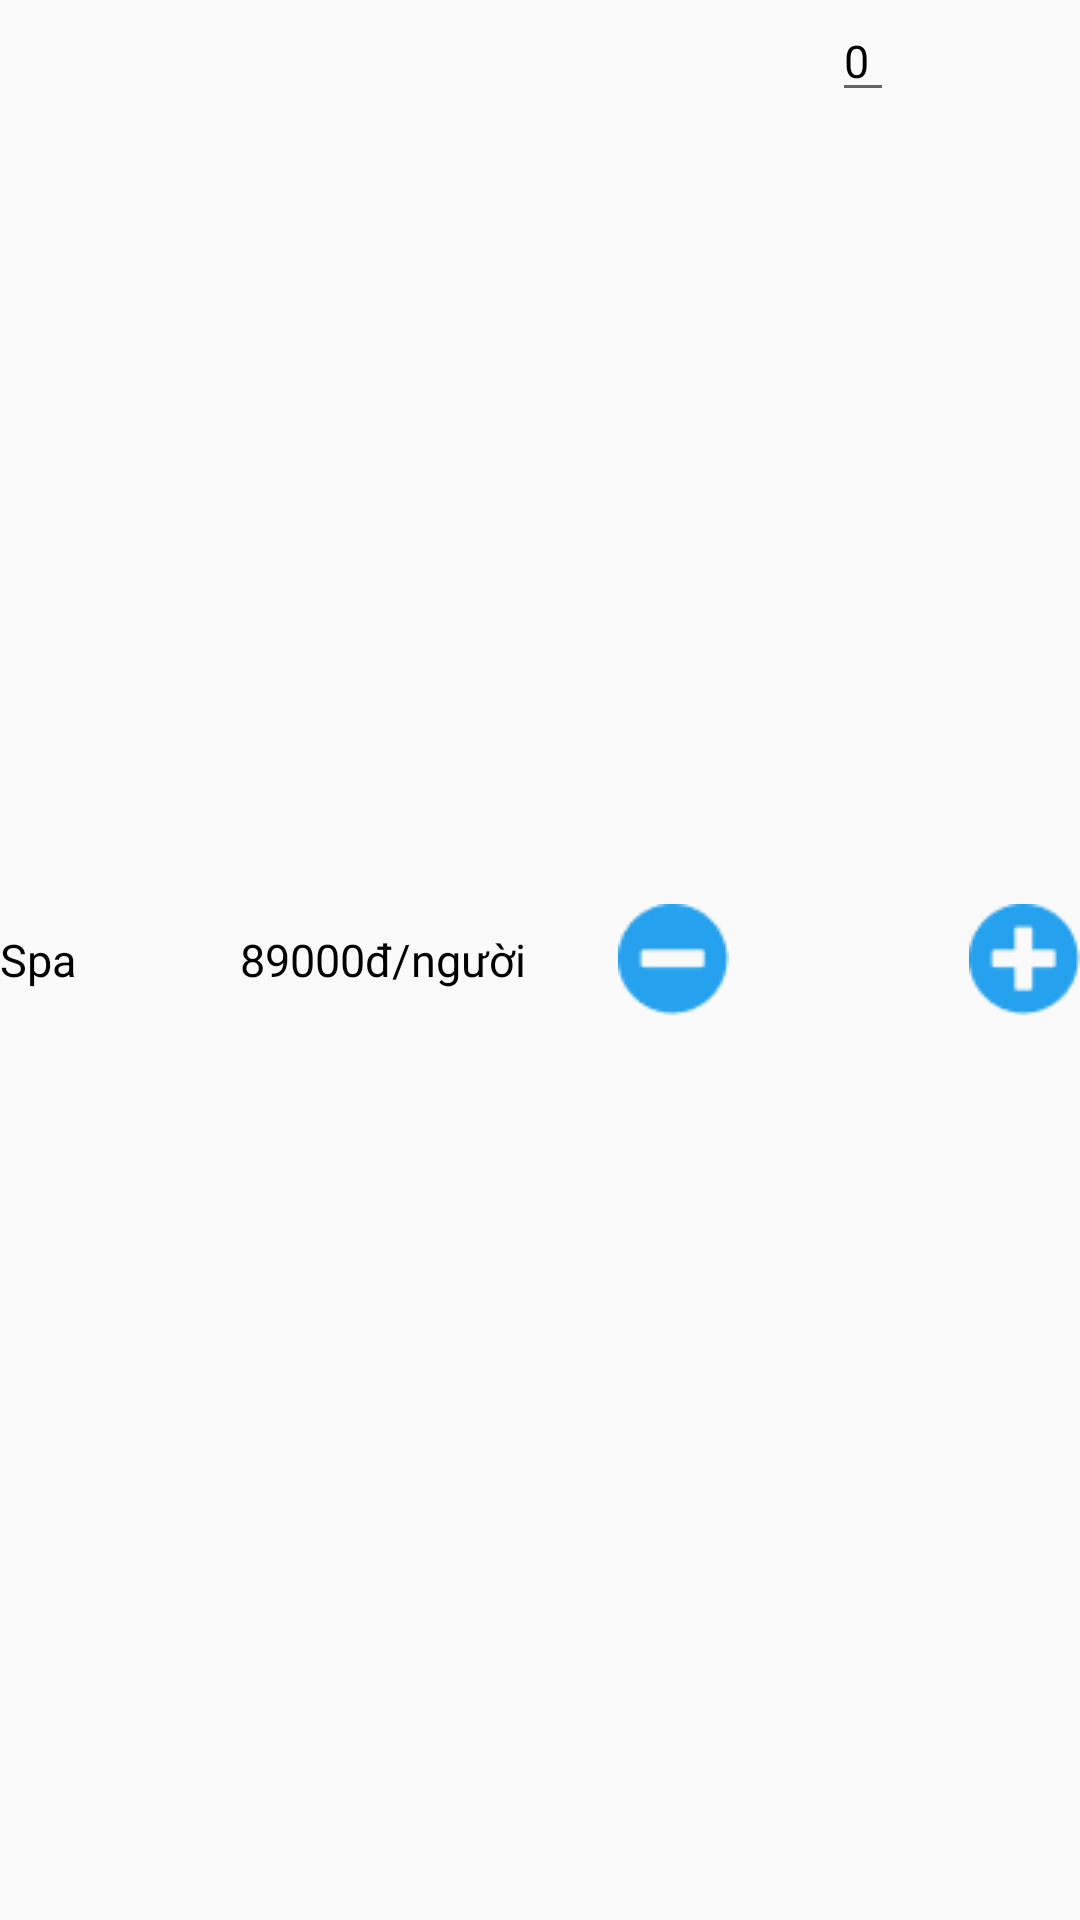

Point at icon controls on the screen. Image size 1080 x 1920, points as [x,y].
cong: [1024,959]
tru: [673,959]
